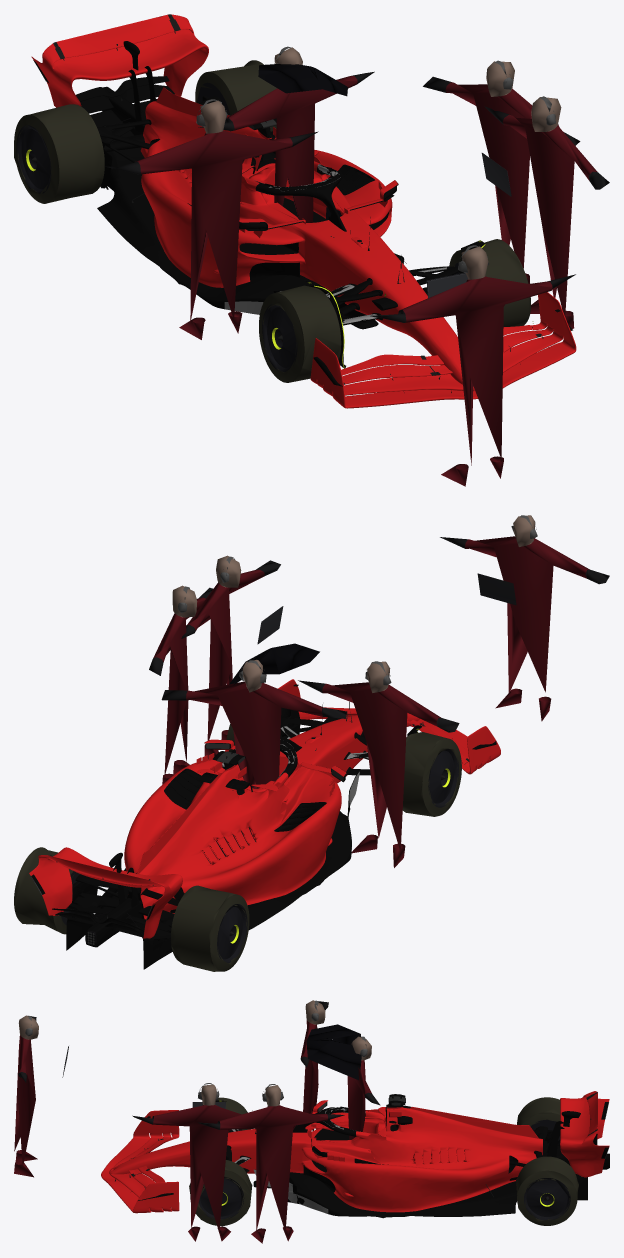
File: f1-21-ferrari.obj
3 renders of one model, top to bottom at view 1: azimuth 30°, elevation 25°; view 2: azimuth 150°, elevation 25°; view 3: azimuth 270°, elevation 25°, orthographic. The views are drawn at different scales.
Parts seen in each view (by area): view 1: BODY, WHEEL_RR, WHEEL_RF, WHEEL_LR, WHEEL_LF; view 2: BODY, WHEEL_RR, WHEEL_RF, WHEEL_LR; view 3: BODY, WHEEL_LR, WHEEL_LF, WHEEL_RR.
Part boxes in pixels (x1,y1,x2,y2): BODY: (31, 14, 609, 486); WHEEL_RR: (14, 104, 104, 203); WHEEL_RF: (259, 280, 345, 382); WHEEL_LR: (195, 60, 276, 131); WHEEL_LF: (449, 239, 530, 326); BODY: (29, 515, 609, 969); WHEEL_RR: (171, 885, 249, 971); WHEEL_RF: (402, 725, 461, 816); WHEEL_LR: (14, 847, 80, 934); BODY: (14, 1000, 609, 1243); WHEEL_LR: (516, 1156, 578, 1225); WHEEL_LF: (189, 1157, 252, 1226); WHEEL_RR: (517, 1097, 560, 1144).
Size of the model in its own units: 1.94 by 1.12 by 3.93.
